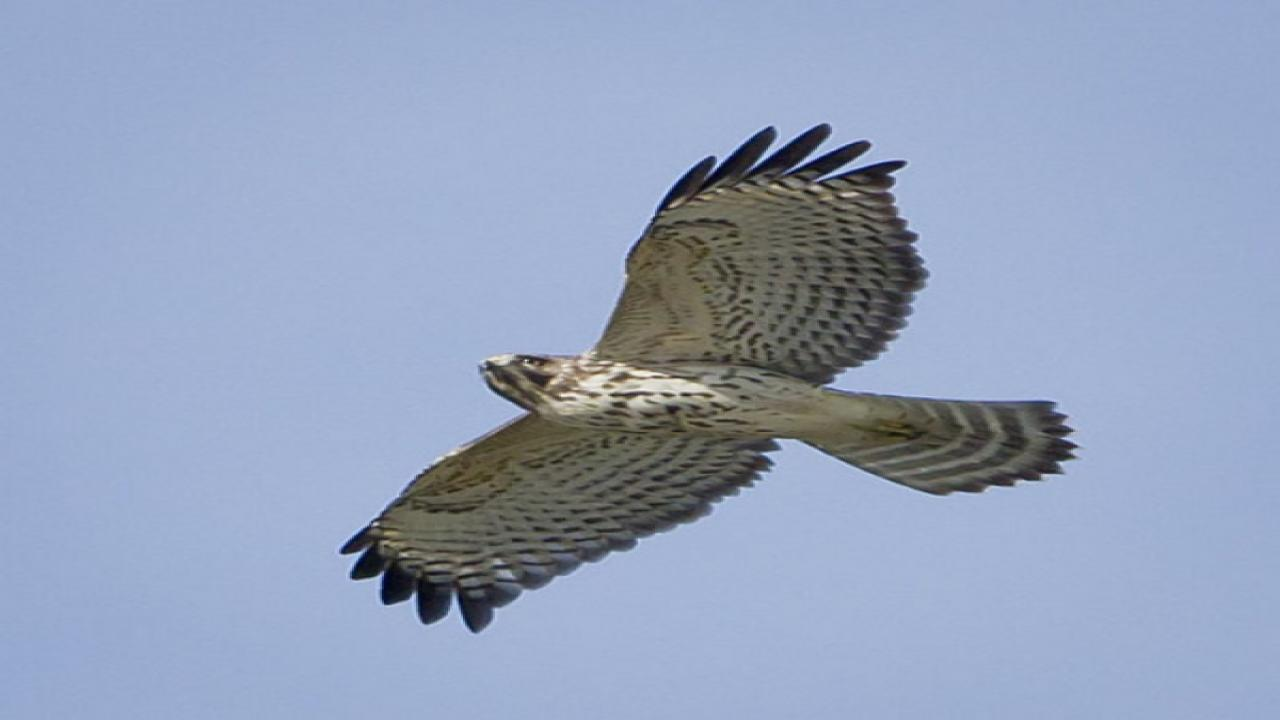Bird: (324, 113, 1094, 641)
